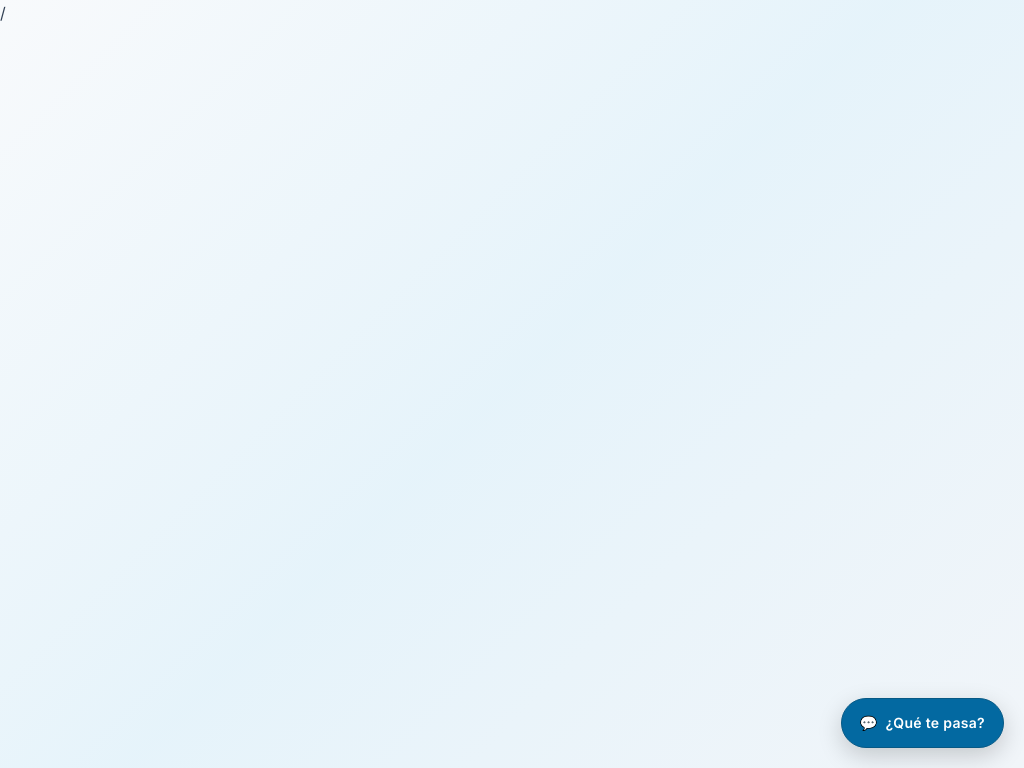
it: AsistenteSalud › arranca cerrado y al abrirlo saluda y pone el foco para escribir
Click the button "💬 ¿Qué te pasa?" at point(922, 723), box [841,698,1004,748]
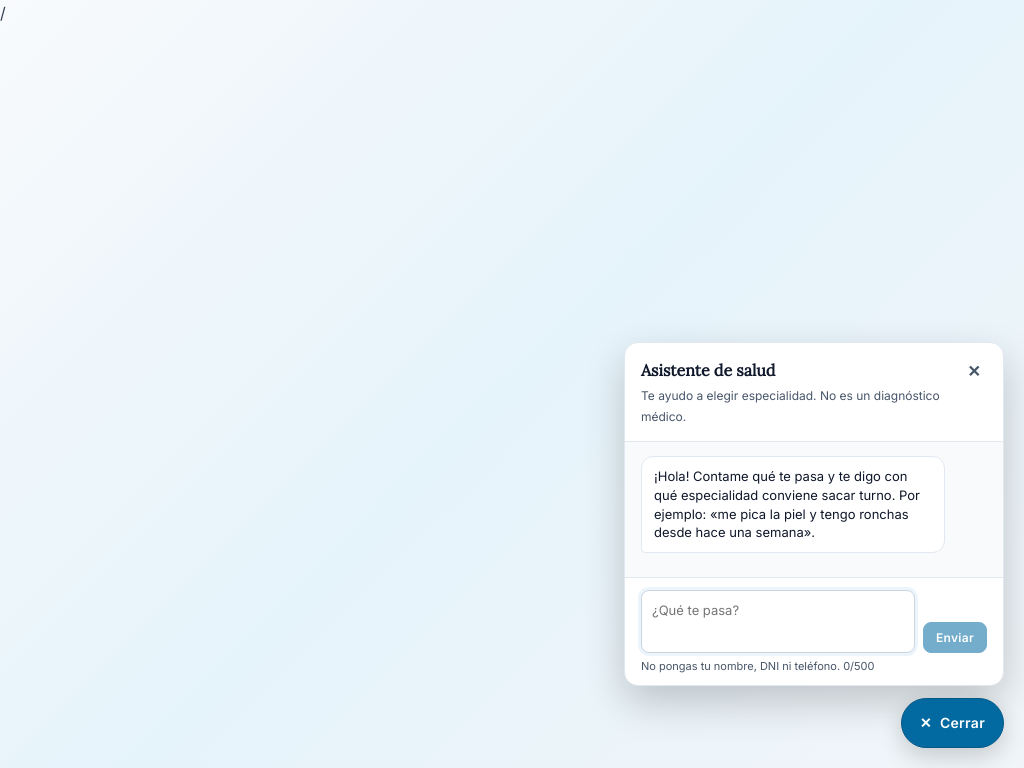
Now the dialog "Asistente de salud" is shown, box [624,342,1004,686]
Now the element named "Conversación con el asistente" shows "Contame qué te pasa", box [654,468,920,540]
